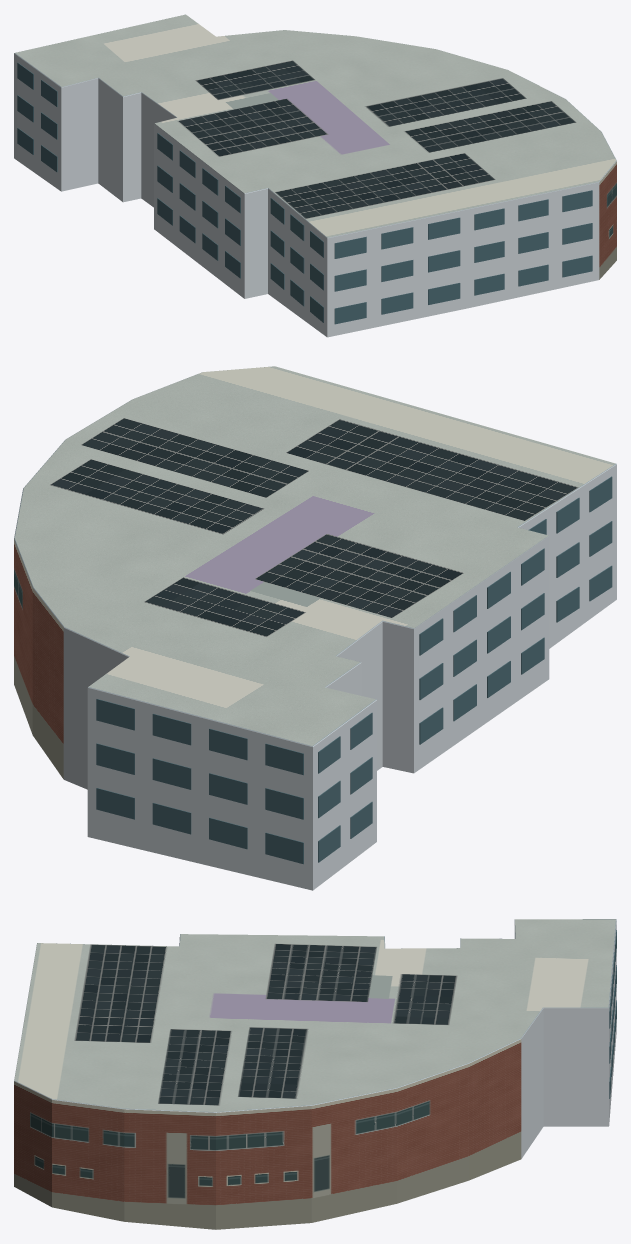
Rendered from fragments.glb.
3 renders of one model, top to bottom at view 1: azimuth 30°, elevation 25°; view 2: azimuth 150°, elevation 25°; view 3: azimuth 270°, elevation 25°, orthographic. The views are drawn at different scales.
Visible parts, largest first — view 1: SM_vet_Fragment_025, SM_vet_Fragment_006, SM_vet_Fragment_000, SM_vet_Fragment_052, SM_vet_Fragment_010, SM_vet_Fragment_001, SM_vet_Fragment_057, SM_vet_Fragment_013, SM_vet_Fragment_060, SM_vet_Fragment_020, SM_vet_Fragment_038, SM_vet_Fragment_043 (+28 smaller); view 2: SM_vet_Fragment_010, SM_vet_Fragment_022, SM_vet_Fragment_040, SM_vet_Fragment_006, SM_vet_Fragment_013, SM_vet_Fragment_043, SM_vet_Fragment_020, SM_vet_Fragment_056, SM_vet_Fragment_019, SM_vet_Fragment_046, SM_vet_Fragment_045, SM_vet_Fragment_005 (+29 smaller); view 3: SM_vet_Fragment_004, SM_vet_Fragment_032, SM_vet_Fragment_021, SM_vet_Fragment_026, SM_vet_Fragment_002, SM_vet_Fragment_045, SM_vet_Fragment_027, SM_vet_Fragment_041, SM_vet_Fragment_012, SM_vet_Fragment_013, SM_vet_Fragment_020, SM_vet_Fragment_023 (+26 smaller).
Part boxes in pixels (x1,y1,x2,y2): SM_vet_Fragment_025: (333,223,437,332); SM_vet_Fragment_006: (284,187,390,285); SM_vet_Fragment_000: (484,176,555,297); SM_vet_Fragment_052: (413,195,504,304); SM_vet_Fragment_010: (154,112,270,210); SM_vet_Fragment_001: (35,55,144,133); SM_vet_Fragment_057: (543,190,610,291); SM_vet_Fragment_013: (142,65,261,122); SM_vet_Fragment_060: (96,79,157,202); SM_vet_Fragment_020: (353,168,486,229); SM_vet_Fragment_038: (227,154,342,233); SM_vet_Fragment_043: (193,157,251,278); SM_vet_Fragment_010: (328,555,488,676); SM_vet_Fragment_022: (115,687,285,812); SM_vet_Fragment_040: (242,719,353,869); SM_vet_Fragment_006: (459,441,616,564); SM_vet_Fragment_013: (198,589,372,668); SM_vet_Fragment_043: (448,548,549,697); SM_vet_Fragment_020: (343,414,532,484); SM_vet_Fragment_056: (135,740,247,868); SM_vet_Fragment_019: (205,514,375,588); SM_vet_Fragment_046: (361,655,453,773); SM_vet_Fragment_045: (23,556,139,686); SM_vet_Fragment_005: (87,694,142,849); SM_vet_Fragment_004: (189,1079,309,1187); SM_vet_Fragment_032: (280,1058,415,1166); SM_vet_Fragment_021: (227,1125,350,1228); SM_vet_Fragment_026: (86,1079,196,1177); SM_vet_Fragment_002: (386,1071,479,1197); SM_vet_Fragment_045: (409,1026,516,1130); SM_vet_Fragment_027: (14,1054,101,1144); SM_vet_Fragment_041: (112,1168,238,1229); SM_vet_Fragment_012: (22,1138,124,1219); SM_vet_Fragment_013: (363,948,501,1000); SM_vet_Fragment_020: (28,975,146,1033); SM_vet_Fragment_023: (470,1003,609,1089).
Size of the model in its own units: 1.67 by 0.4867 by 2.2.
Materials: 6 (2 with a texture image).
